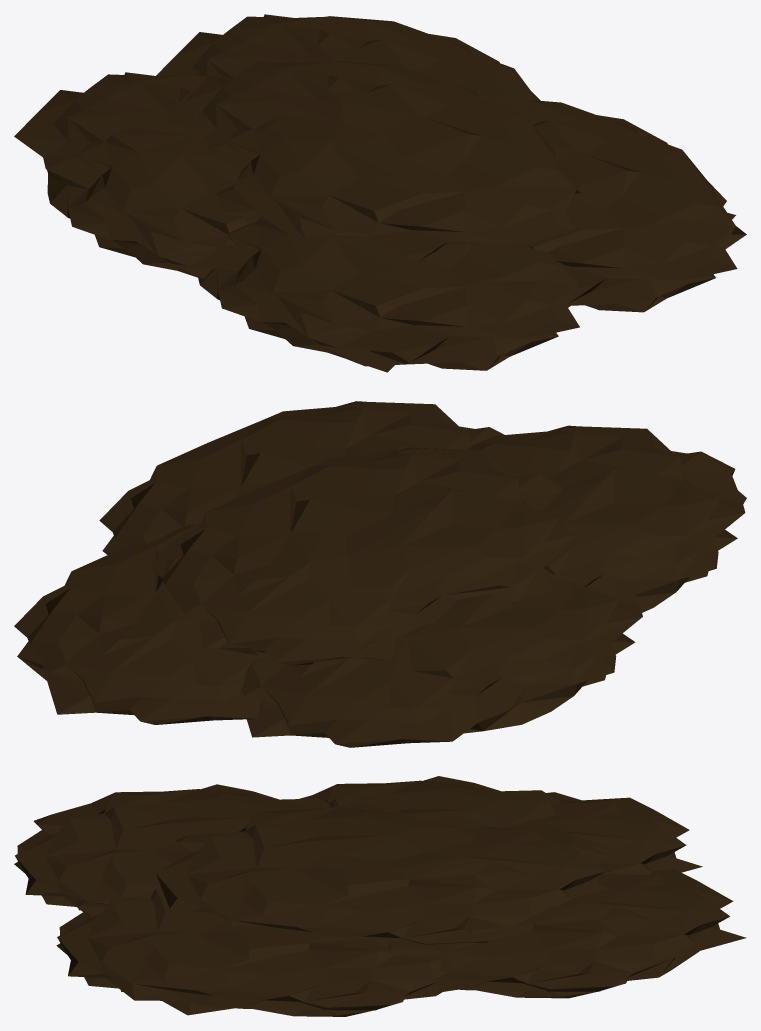
The model's file is Leaves_fatpile_burnt.fbx.
3 views of the same model, one above another, from view 1: azimuth 30°, elevation 25°; view 2: azimuth 150°, elevation 25°; view 3: azimuth 270°, elevation 25° (orthographic). The views are drawn at different scales.
Parts seen in each view (by area): view 1: bush.001; view 2: bush.001; view 3: bush.001.
Part boxes in pixels (x1,y1,x2,y2): bush.001: (14,14,746,372); bush.001: (14,401,746,747); bush.001: (14,776,746,1016).
Bounding box in the file's own units: 87.23 × 11.82 × 117.
